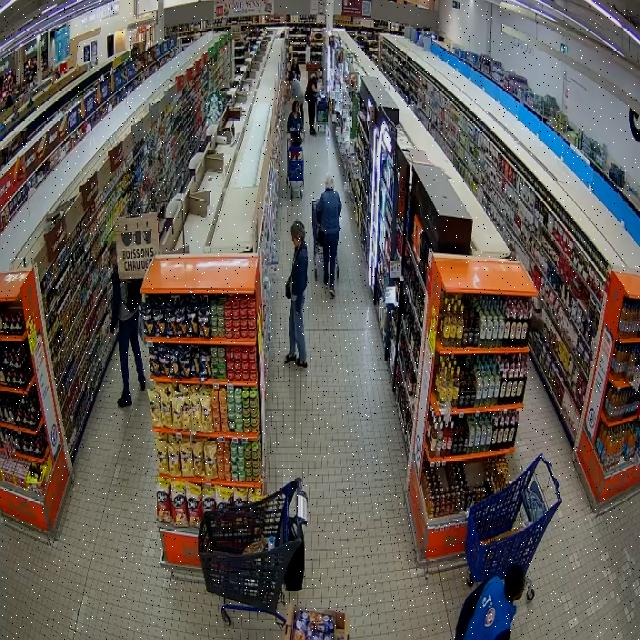bags: (285, 521, 304, 591), (124, 279, 142, 311), (285, 276, 291, 299), (318, 228, 325, 244)
hands: (108, 332, 114, 341), (296, 305, 301, 314)
person: (110, 242, 145, 407), (455, 565, 525, 639), (285, 219, 308, 367), (317, 175, 341, 296), (288, 101, 303, 146)
